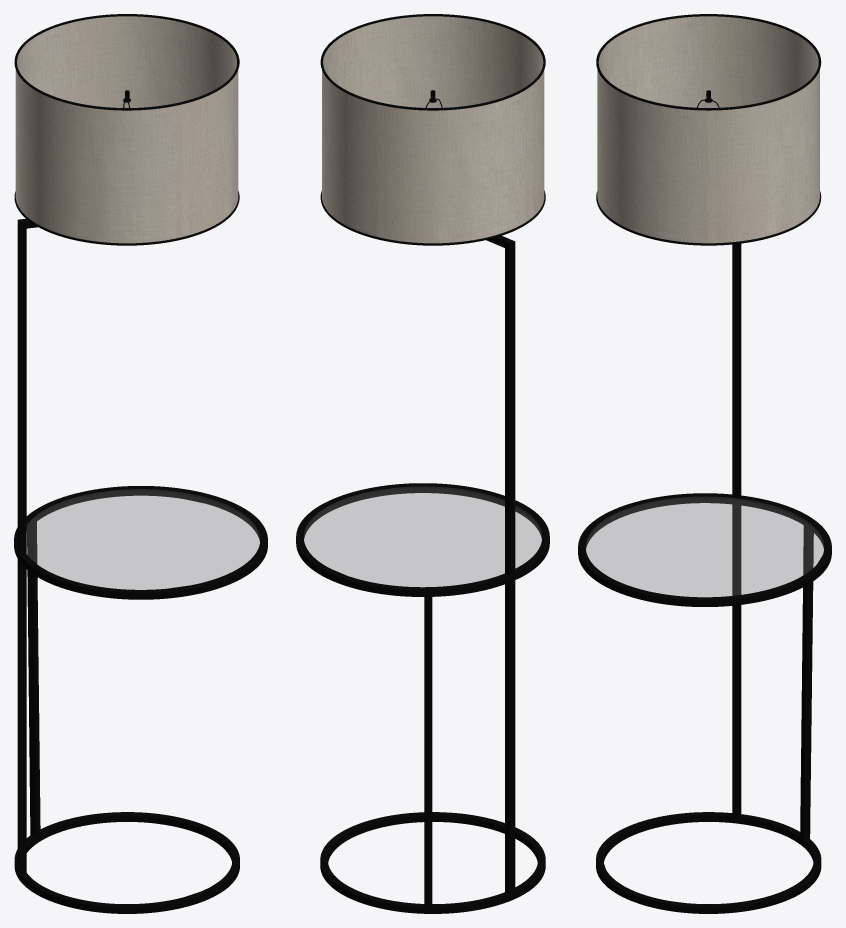
The model's file is adult_lamp_2.gltf.
The picture shows the model from 3 angles, left to right: view 1: azimuth 30°, elevation 25°; view 2: azimuth 150°, elevation 25°; view 3: azimuth 270°, elevation 25°; orthographic projection.
Parts seen in each view (by area): view 1: Object_10, Object_11, Object_2, Object_5, Object_6, Object_8; view 2: Object_10, Object_11, Object_2, Object_5, Object_6, Object_8; view 3: Object_10, Object_11, Object_2, Object_5, Object_6, Object_8.
Boxes of the visible parts, x1,y1,x2,y2 form: Object_10: (15,16,238,243); Object_11: (27,489,259,589); Object_2: (14,218,267,906); Object_5: (14,486,267,599); Object_6: (14,812,239,913); Object_8: (14,14,239,245); Object_10: (322,16,544,243); Object_11: (304,486,541,586); Object_2: (296,236,549,907); Object_5: (296,483,549,596); Object_6: (320,812,545,913); Object_8: (320,14,545,245); Object_10: (597,16,819,243); Object_11: (586,497,823,596); Object_2: (580,243,830,906); Object_5: (578,493,831,606); Object_6: (596,812,821,913); Object_8: (596,14,821,245).
Bounding box in the file's own units: 500 × 1752 × 500.
3 materials, 1 textured.
